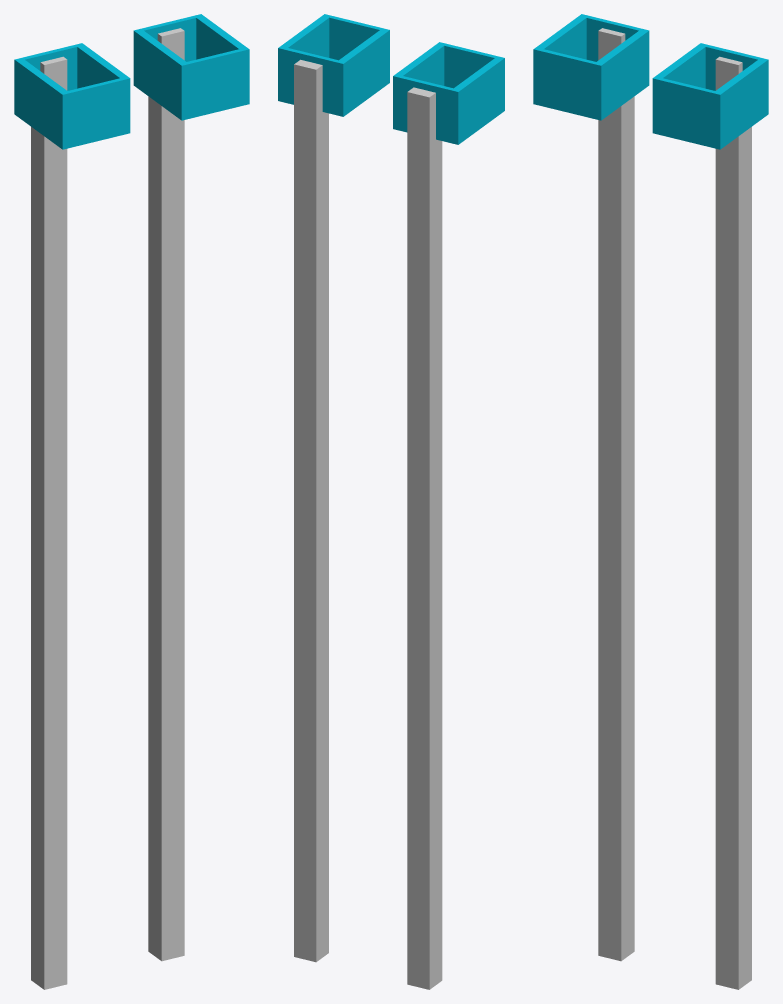
File: LegBuildMachine.fbx
The picture shows the model from 3 angles, left to right: view 1: azimuth 30°, elevation 25°; view 2: azimuth 150°, elevation 25°; view 3: azimuth 330°, elevation 25°; orthographic projection. The views are drawn at different scales.
Parts seen in each view (by area): view 1: LegMachineway, LegMachineCarry.002, LegMachineCarry.001; view 2: LegMachineway, LegMachineCarry.001, LegMachineCarry.002; view 3: LegMachineway, LegMachineCarry.001, LegMachineCarry.002.
Part boxes in pixels (left/top/right/bottom): LegMachineway: left=31, top=28, right=184, bottom=989; LegMachineCarry.002: left=133, top=14, right=249, bottom=120; LegMachineCarry.001: left=14, top=43, right=130, bottom=149; LegMachineway: left=294, top=59, right=442, bottom=989; LegMachineCarry.001: left=393, top=42, right=504, bottom=144; LegMachineCarry.002: left=278, top=14, right=389, bottom=116; LegMachineway: left=598, top=28, right=751, bottom=989; LegMachineCarry.001: left=533, top=14, right=649, bottom=120; LegMachineCarry.002: left=652, top=43, right=768, bottom=149.
Bounding box in the file's own units: 114 × 58.14 × 544.
